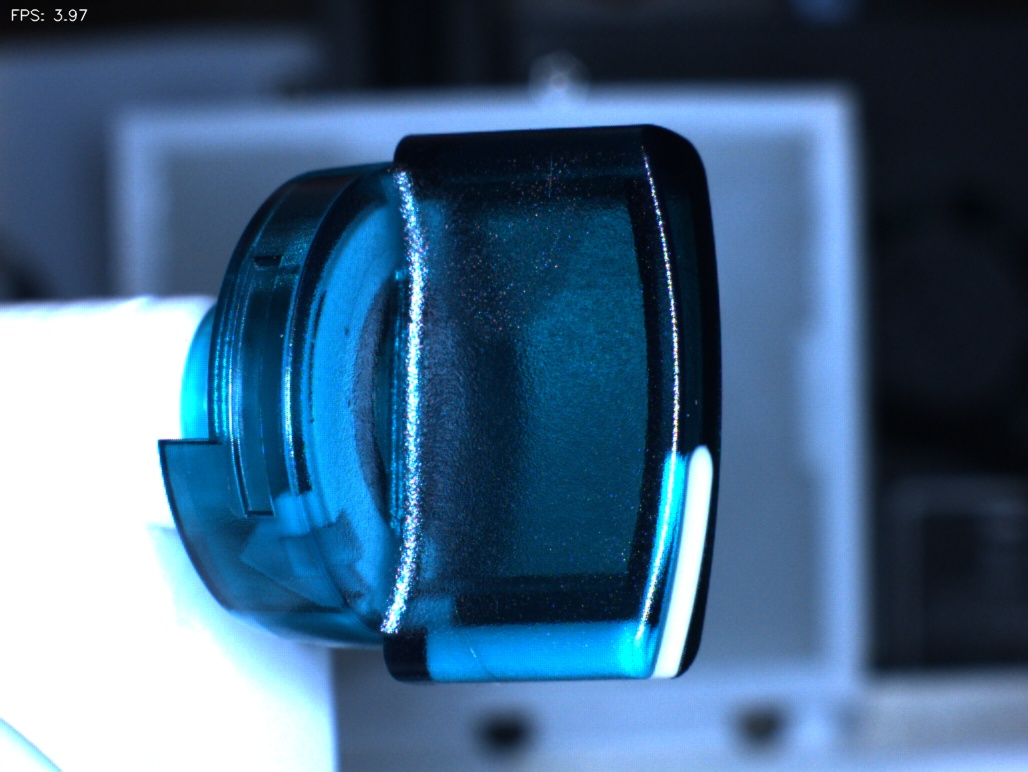PointNoir: (322, 293, 381, 368)
